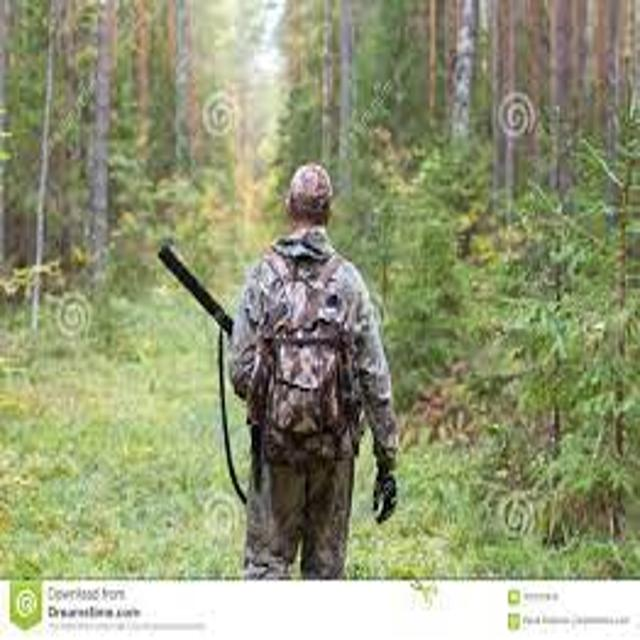backpack: (230, 233, 388, 478)
gun: (145, 230, 254, 362)
ranger: (149, 149, 429, 579)
